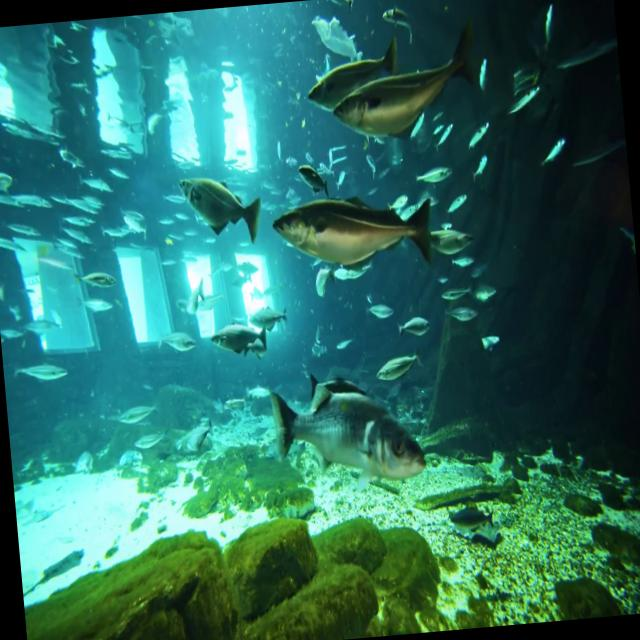fish: (326, 7, 494, 148), (264, 354, 432, 492), (271, 175, 438, 279), (296, 20, 406, 114), (174, 156, 264, 242), (207, 307, 272, 369), (306, 0, 361, 56), (10, 350, 72, 396), (68, 253, 122, 299), (421, 222, 476, 264), (295, 145, 336, 195), (533, 0, 562, 59), (412, 154, 456, 192), (109, 400, 160, 432), (179, 272, 208, 328), (394, 303, 434, 343), (245, 298, 292, 332), (536, 130, 570, 172), (362, 294, 398, 329), (440, 299, 482, 327), (474, 324, 506, 359), (437, 279, 474, 306), (466, 146, 492, 184), (442, 186, 472, 218), (130, 429, 168, 454), (472, 276, 501, 306), (0, 161, 16, 204)
